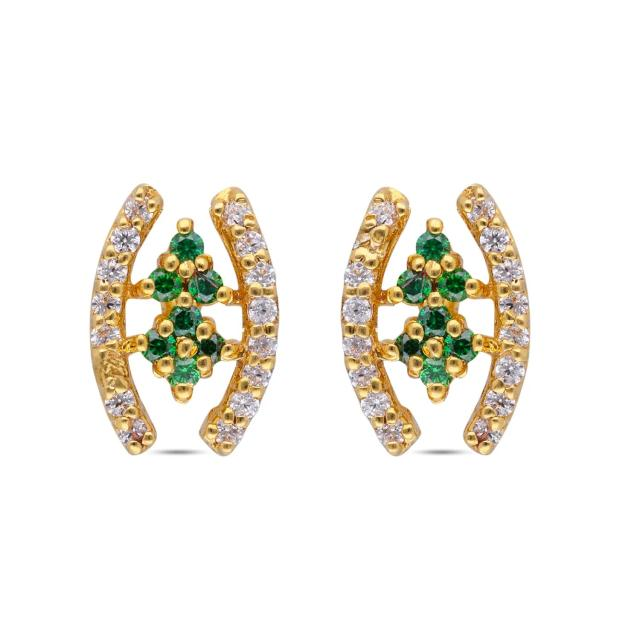missing gem: (99, 361, 127, 388), (359, 235, 384, 257)
